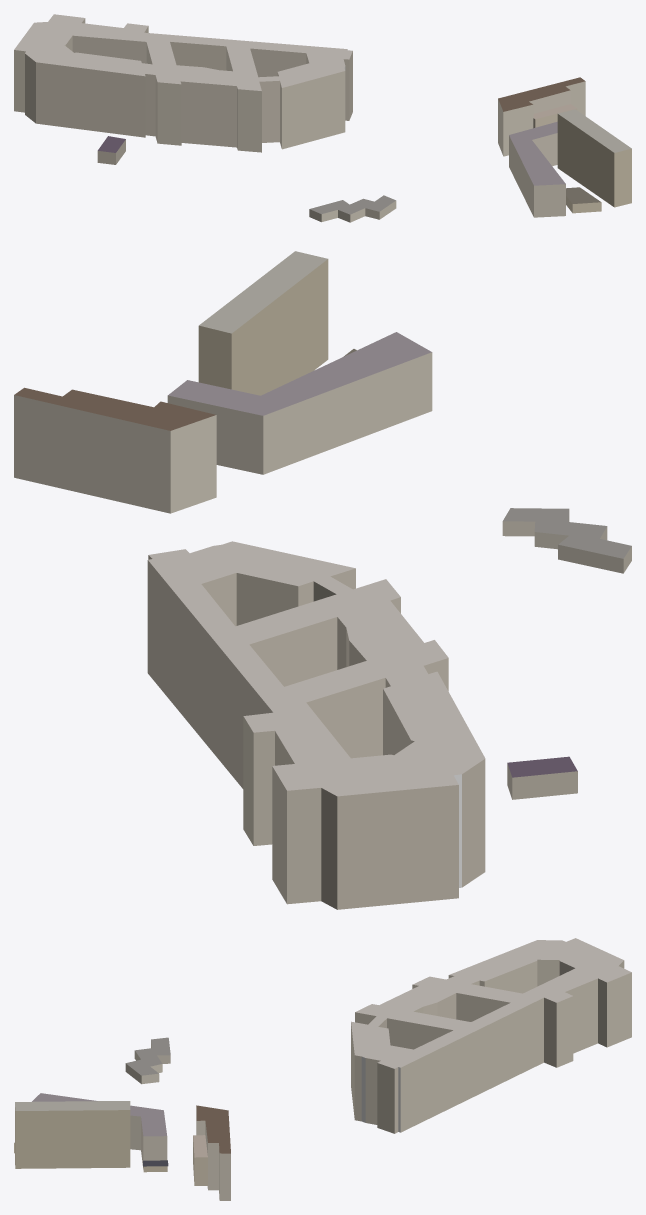
3 views of the same model, one above another, from view 1: azimuth 30°, elevation 25°; view 2: azimuth 150°, elevation 25°; view 3: azimuth 270°, elevation 25° (orthographic). The views are drawn at different scales.
Parts seen in each view (by area): view 1: tuile; view 2: tuile; view 3: tuile.
Part boxes in pixels (bbox=[...]): tuile: bbox=[14, 14, 631, 222]; tuile: bbox=[14, 251, 631, 909]; tuile: bbox=[14, 938, 631, 1200].
Size of the model in its own units: 265 by 44.08 by 332.
